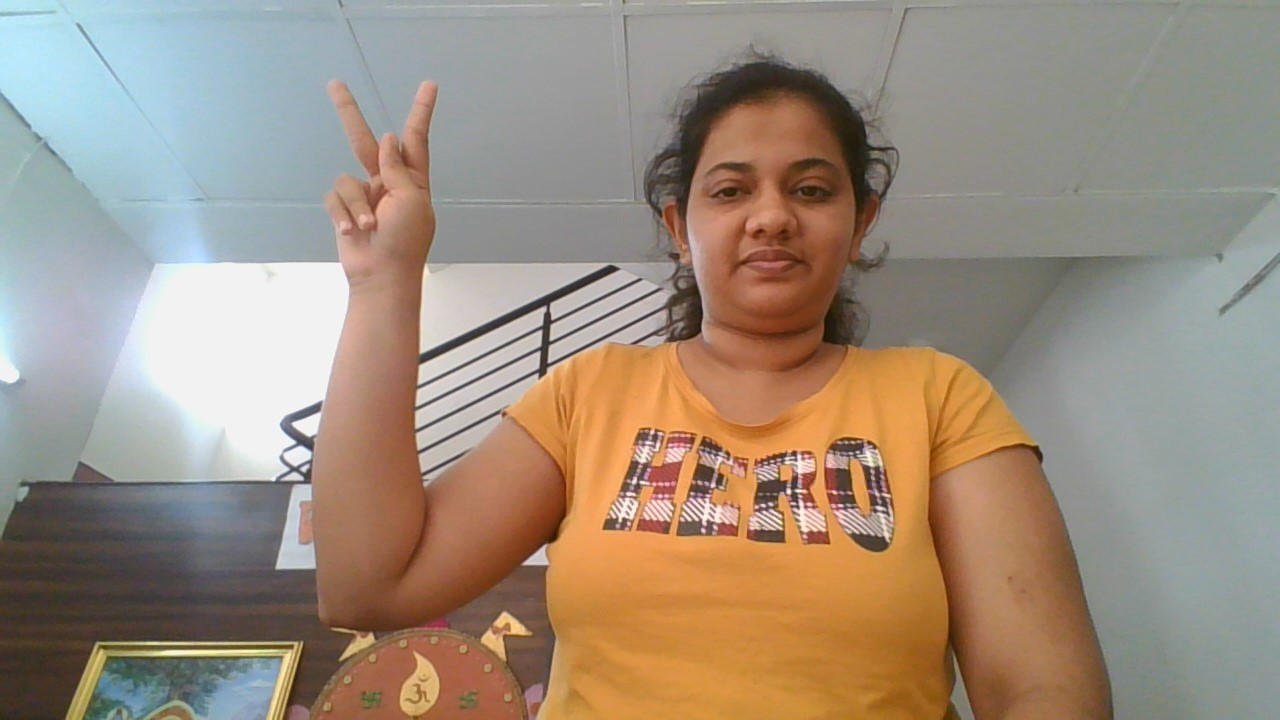k: (301, 68, 467, 301)
